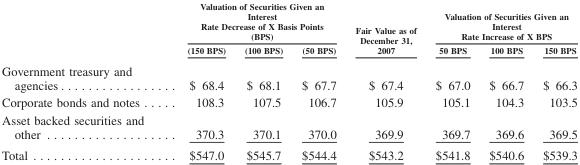table: (1, 0, 576, 162)
table column: (1, 0, 166, 162), (345, 0, 425, 162), (166, 0, 234, 162), (234, 0, 291, 162), (291, 0, 345, 162), (425, 0, 479, 162), (479, 0, 532, 162), (532, 0, 576, 162)
table column header: (1, 0, 576, 59)
table row: (1, 0, 576, 43), (1, 59, 576, 93), (1, 110, 576, 144), (1, 144, 576, 162), (1, 93, 576, 110), (1, 43, 576, 59)
table spanning cell: (166, 0, 345, 43), (425, 0, 576, 43), (345, 0, 425, 59)
